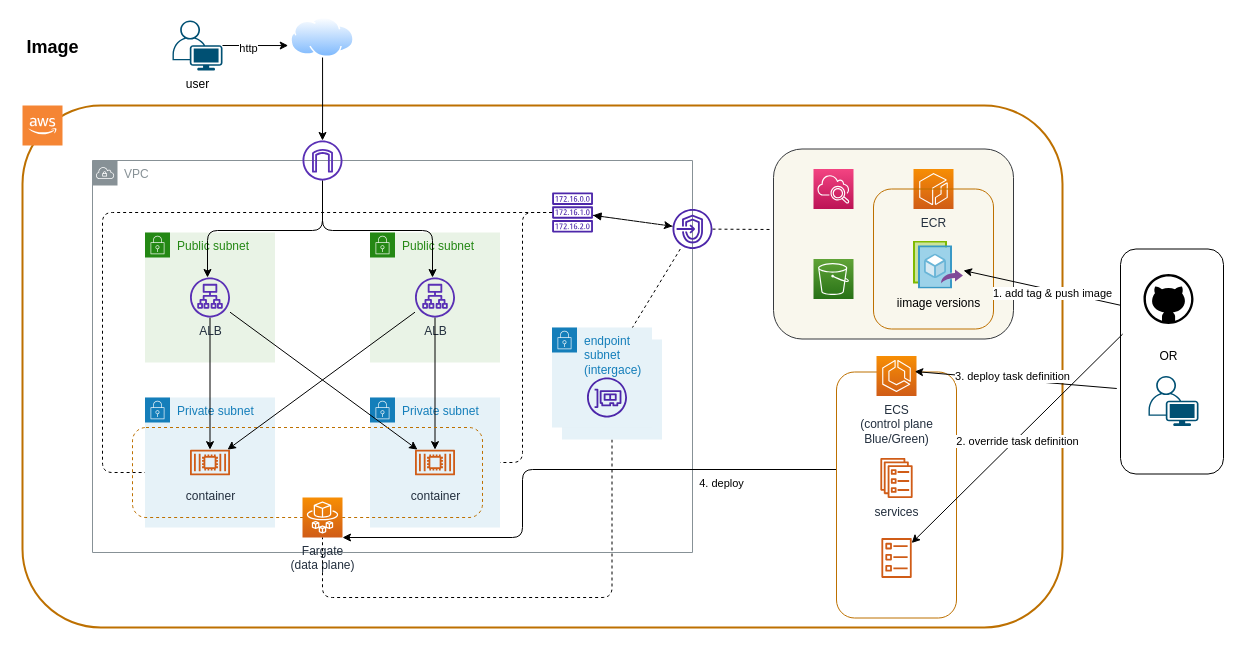
Some shapes in this 1241 by 645 pixel diagram are drawn without their labels. The centre of each missing label's shape, as x and y in pixels:
"cloudwatch" belongs at point (833, 188).
"engineer" belongs at point (1173, 401).
"ENI(private)" belongs at point (606, 397).
"git hub action" belongs at point (1168, 299).
"IGW" belongs at point (322, 160).
"route table" belongs at point (572, 212).
"s3" belongs at point (833, 278).
"task definition" belongs at point (896, 558).
"vpc endpoints" belongs at point (692, 228).
